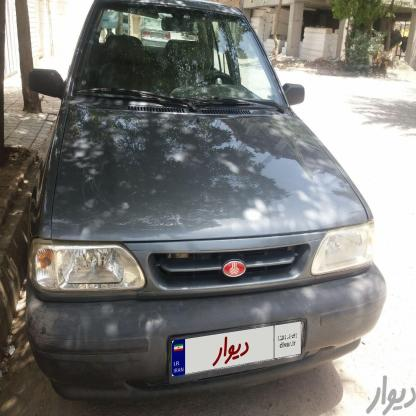Car: (26, 0, 392, 392), (136, 18, 174, 54)
